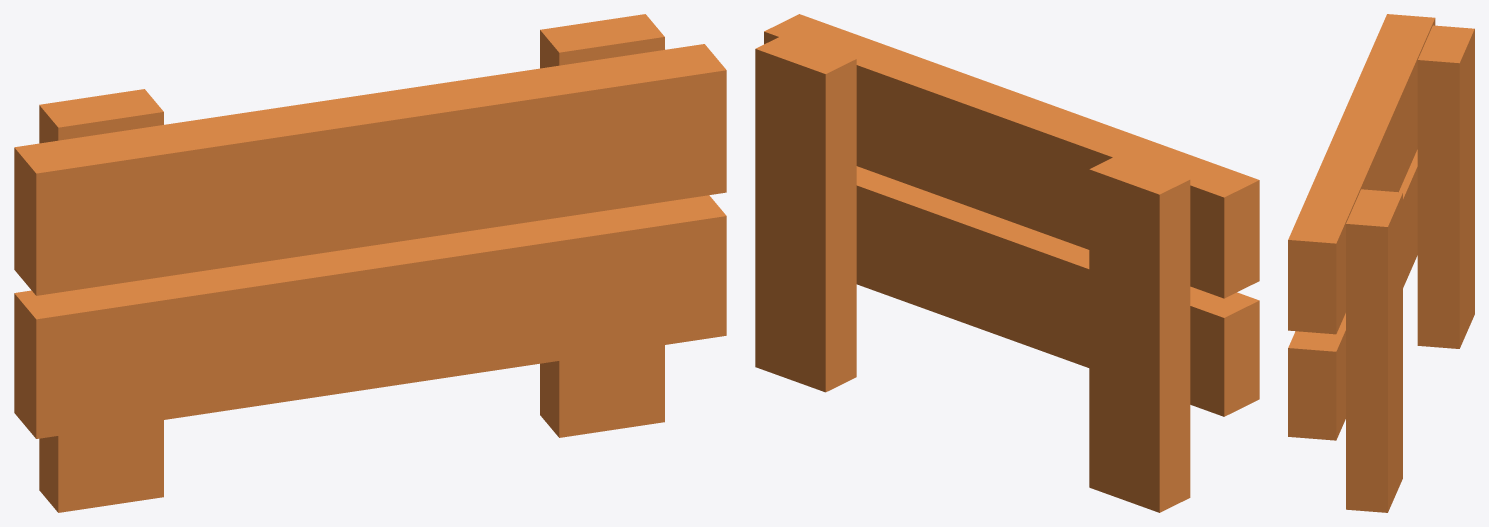
The model's file is fence.glb.
3 renders of one model, left to right at view 1: azimuth 30°, elevation 25°; view 2: azimuth 150°, elevation 25°; view 3: azimuth 270°, elevation 25°, orthographic. The views are drawn at different scales.
Parts seen in each view (by area): view 1: fencePhysicalDynamic.001; view 2: fencePhysicalDynamic.001; view 3: fencePhysicalDynamic.001.
Boxes of the visible parts, x1=… form: fencePhysicalDynamic.001: x1=14, y1=14, x2=726, y2=512; fencePhysicalDynamic.001: x1=755, y1=14, x2=1259, y2=512; fencePhysicalDynamic.001: x1=1288, y1=14, x2=1474, y2=512.
Size of the model in its own units: 2.14 by 1.24 by 0.7358.
1 material, 1 textured.
